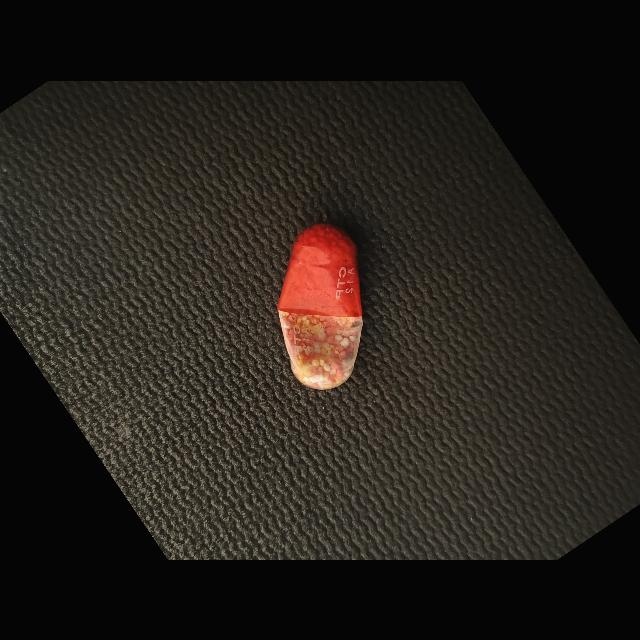Defective Capsule: (277, 223, 363, 389)
